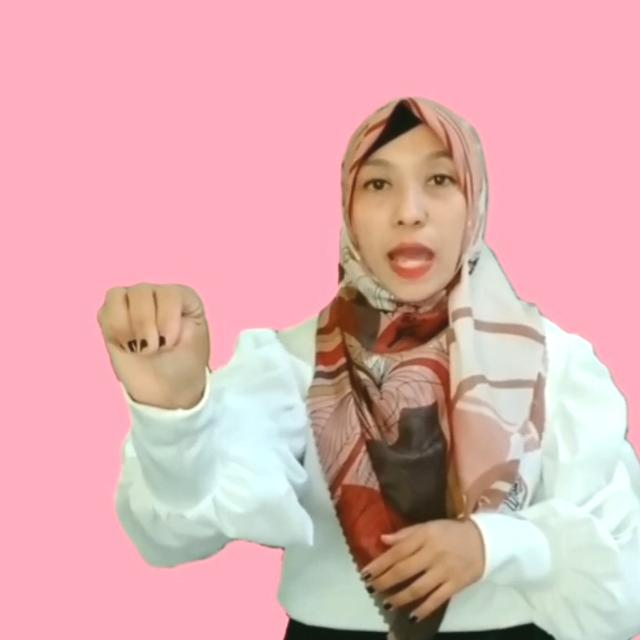M: (92, 278, 212, 394)
